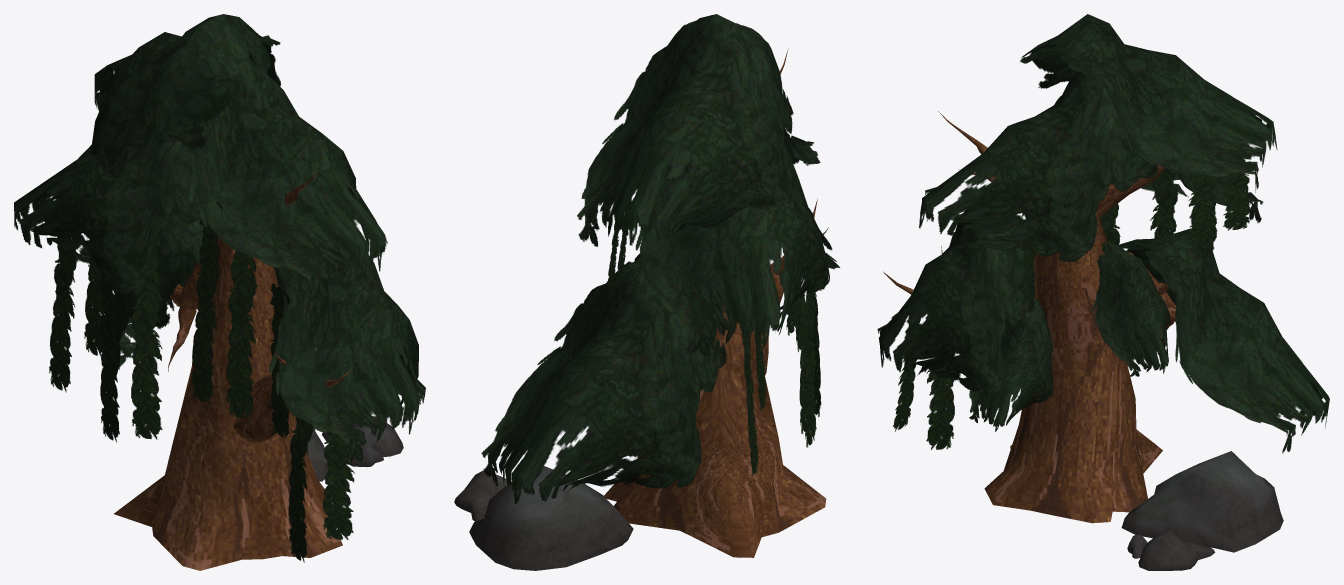
Rendered from ArvoreJardim.glb.
3 renders of one model, left to right at view 1: azimuth 30°, elevation 25°; view 2: azimuth 150°, elevation 25°; view 3: azimuth 270°, elevation 25°, orthographic. The views are drawn at different scales.
Visible parts, largest first — view 1: arvore_geo1, arbusto2_geo, arbusto3_geo, arbusto4_geo, arbusto1_geo, arbusto5_geo, willo_tira_geo1, willo_tira_geo2, willo_tira_geo3, willo_tira_geo8, willo_tira_geo6, willo_tira_geo (+5 smaller); view 2: arbusto5_geo, arbusto1_geo, arbusto4_geo, arvore_geo1, rockbig_geo, willo_tira_geo, rockmid_geo, willo_tira_geo8, arbusto2_geo, willo_tira_geo4, willo_tira_geo7, willo_tira_geo1; view 3: arvore_geo1, arbusto2_geo, arbusto1_geo, arbusto5_geo, arbusto3_geo, rockbig_geo, arbusto6_geo, arbusto7_geo, rockmid_geo, willo_tira_geo4, willo_tira_geo10, willo_tira_geo7 (+3 smaller).
Boxes of the visible parts, x1,y1,x2,y2 form: arvore_geo1: (114,172,350,570); arbusto2_geo: (188,57,387,301); arbusto3_geo: (268,247,419,463); arbusto4_geo: (14,127,200,294); arbusto1_geo: (90,14,280,177); arbusto5_geo: (105,214,281,374); willo_tira_geo1: (131,233,164,439); willo_tira_geo2: (226,250,258,419); willo_tira_geo3: (191,202,222,404); willo_tira_geo8: (49,188,78,392); willo_tira_geo6: (323,421,354,539); willo_tira_geo: (100,281,119,442); arbusto5_geo: (481,260,726,504); arbusto1_geo: (577,14,793,246); arbusto4_geo: (635,144,829,355); arvore_geo1: (604,49,828,557); rockbig_geo: (469,466,633,570); willo_tira_geo: (804,259,816,447); rockmid_geo: (454,470,507,521); willo_tira_geo8: (742,332,758,475); arbusto2_geo: (783,128,820,165); willo_tira_geo4: (799,287,808,433); willo_tira_geo7: (753,292,766,410); willo_tira_geo1: (812,279,821,417); arvore_geo1: (883,111,1176,523); arbusto2_geo: (919,72,1158,262); arbusto1_geo: (1020,14,1277,192); arbusto5_geo: (1118,228,1329,453); arbusto3_geo: (877,209,1035,396); rockbig_geo: (1121,451,1283,552); arbusto6_geo: (1091,241,1170,376); arbusto7_geo: (969,298,1053,431); rockmid_geo: (1138,530,1214,570); willo_tira_geo4: (926,350,954,449); willo_tira_geo10: (1187,174,1216,246); willo_tira_geo7: (1150,168,1178,238).
Size of the model in its own units: 5.01 by 6.97 by 6.24.
22 materials, 22 textured.
